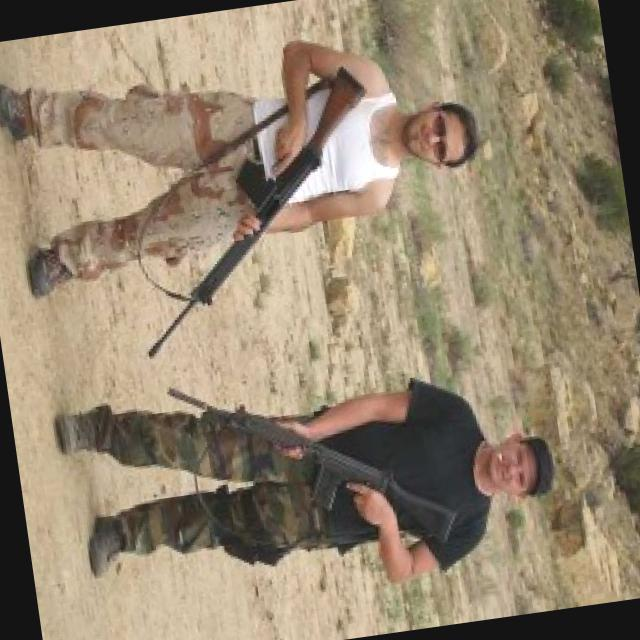long weapon: (118, 39, 390, 383), (148, 350, 462, 579)
